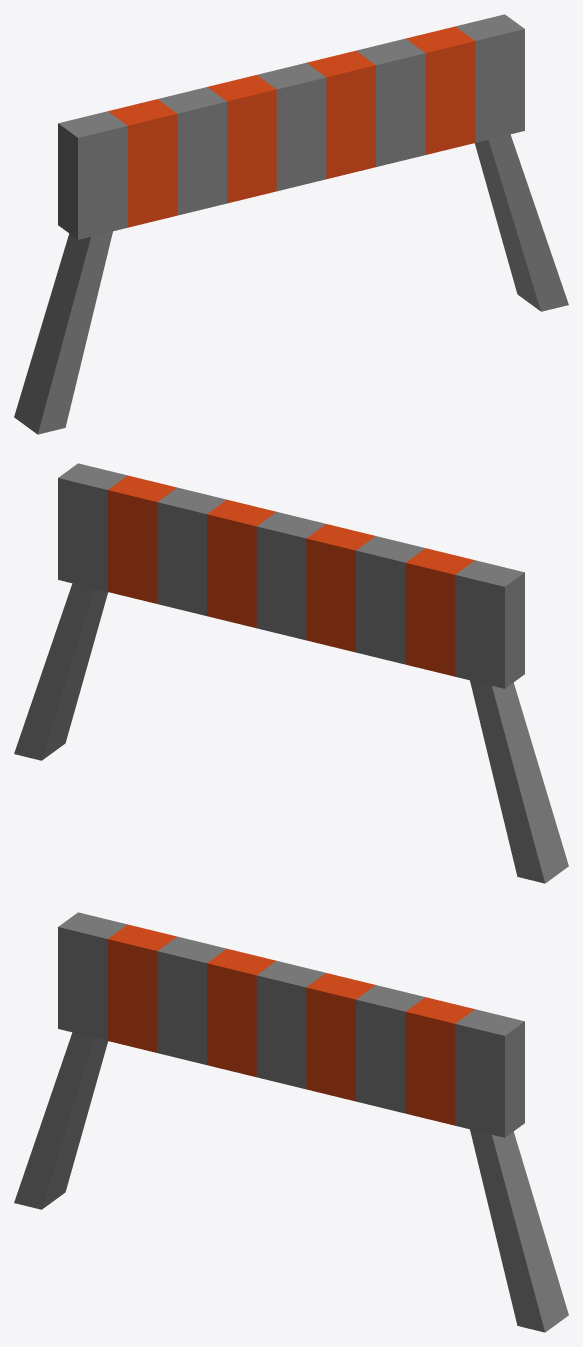
File: obstacle.fbx
The picture shows the model from 3 angles, top to bottom: view 1: azimuth 30°, elevation 25°; view 2: azimuth 150°, elevation 25°; view 3: azimuth 330°, elevation 25°; orthographic projection.
Parts seen in each view (by area): view 1: Cube; view 2: Cube; view 3: Cube.
Part boxes in pixels (bbox=[...]): Cube: bbox=[14, 14, 568, 434]; Cube: bbox=[14, 463, 568, 883]; Cube: bbox=[14, 912, 568, 1332].
Bounding box in the file's own units: 951 × 488 × 73.72.
